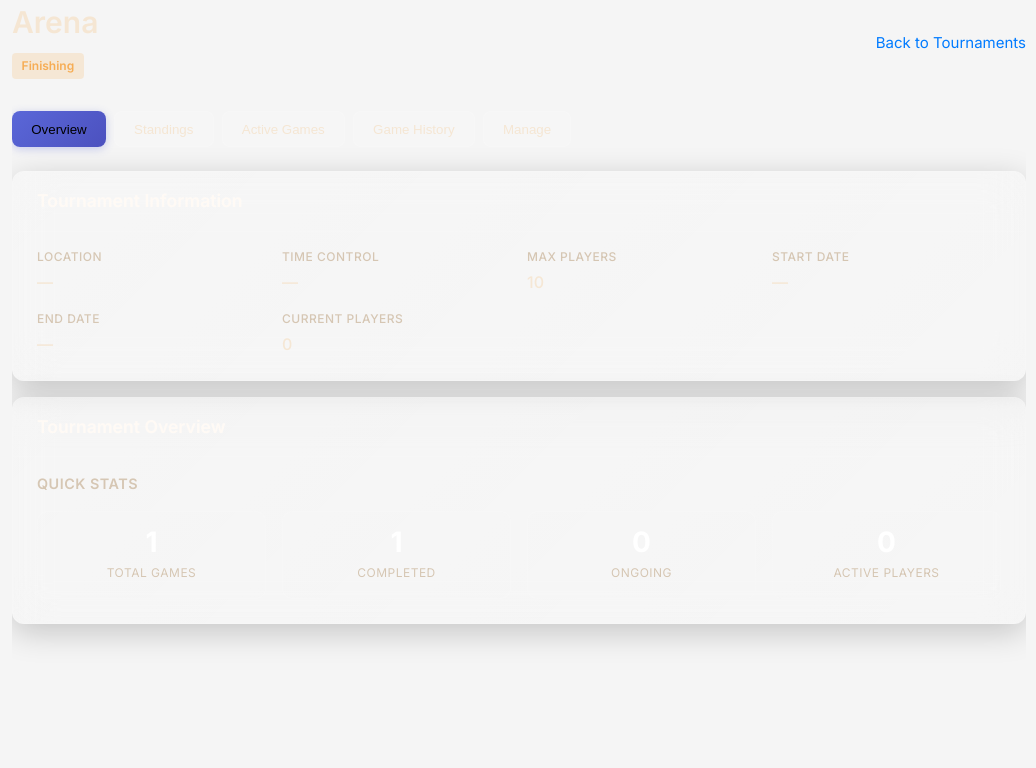
detail history offers only corrections once pairing has closed
Click the button "Game History" at [414, 129], box [353,111,475,147]
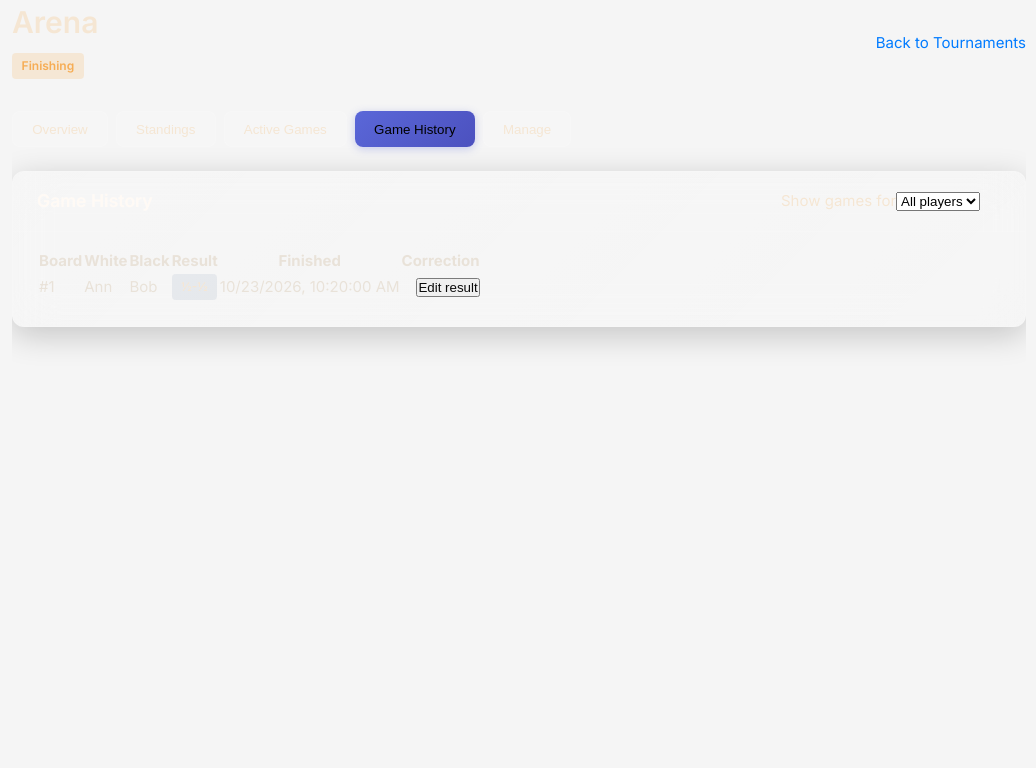
Now the button "Edit result" is shown, box [416,278,480,297]
